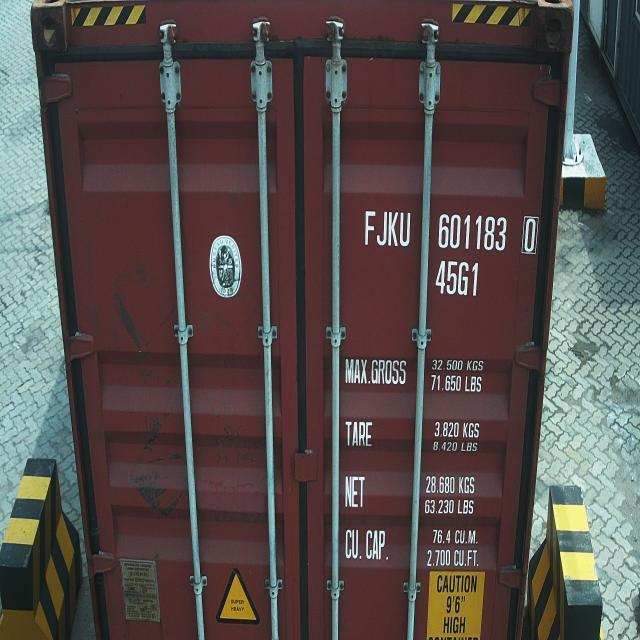ISO: (435, 260, 480, 298)
container_number: (362, 212, 542, 247)
